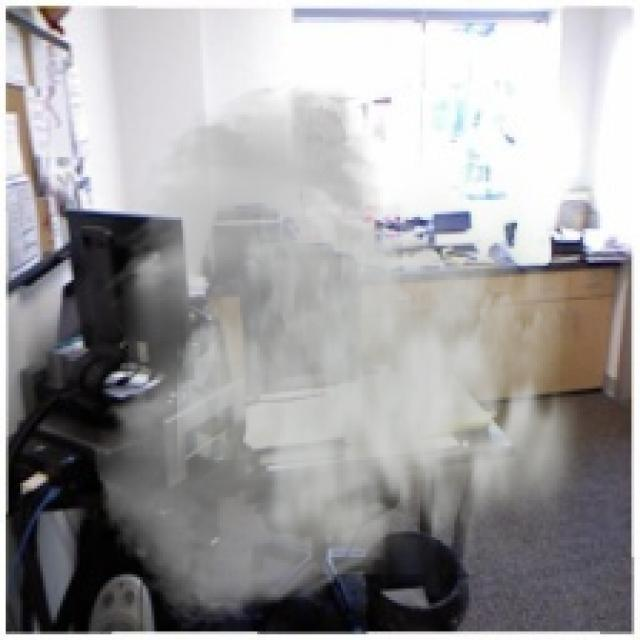Smoke: (91, 80, 606, 629)
